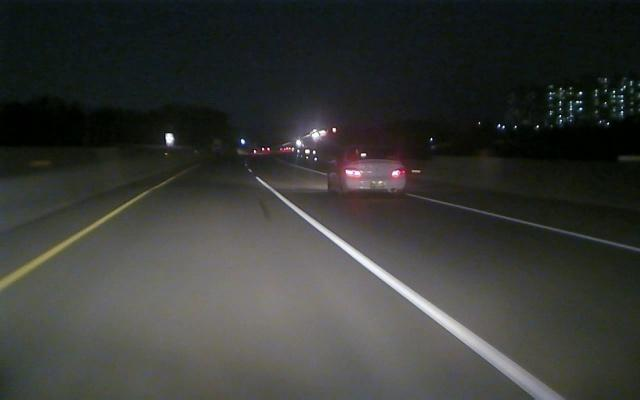lane: (253, 175, 565, 398), (3, 188, 154, 289), (422, 196, 640, 252)
